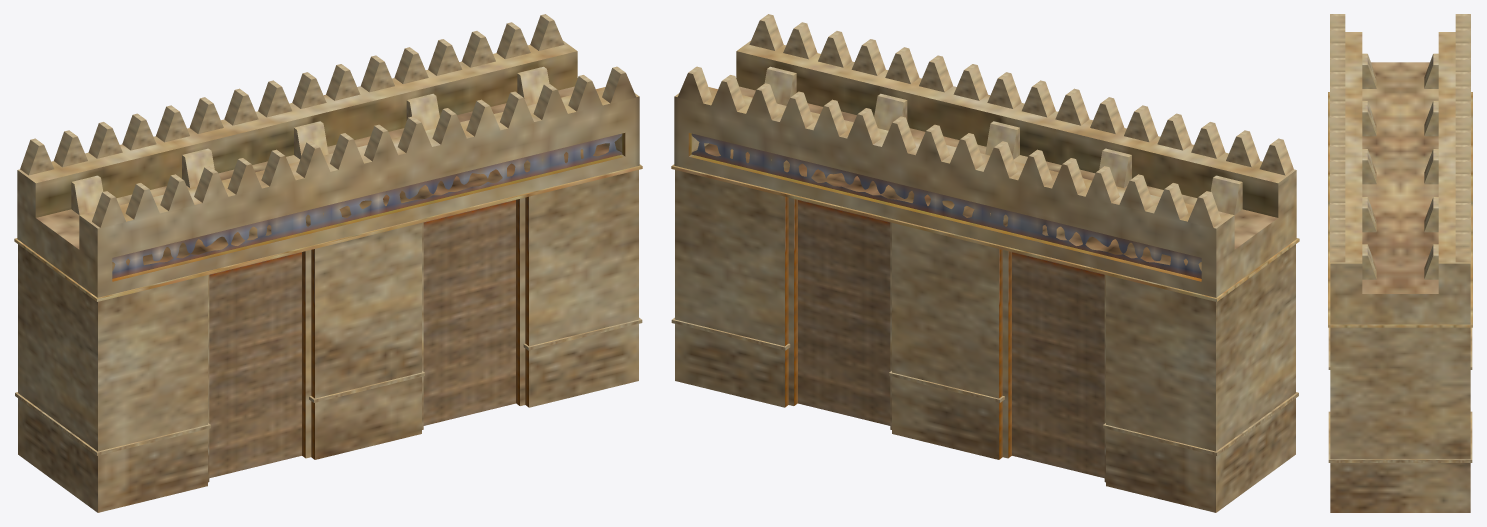
Rendered from build-wall.glb.
3 views of the same model, side by side, from view 1: azimuth 30°, elevation 25°; view 2: azimuth 150°, elevation 25°; view 3: azimuth 270°, elevation 25° (orthographic). The views are drawn at different scales.
Bounding box in the file's own units: 0.44 × 0.2401 × 0.1156.
Materials: 1 (1 with a texture image).
